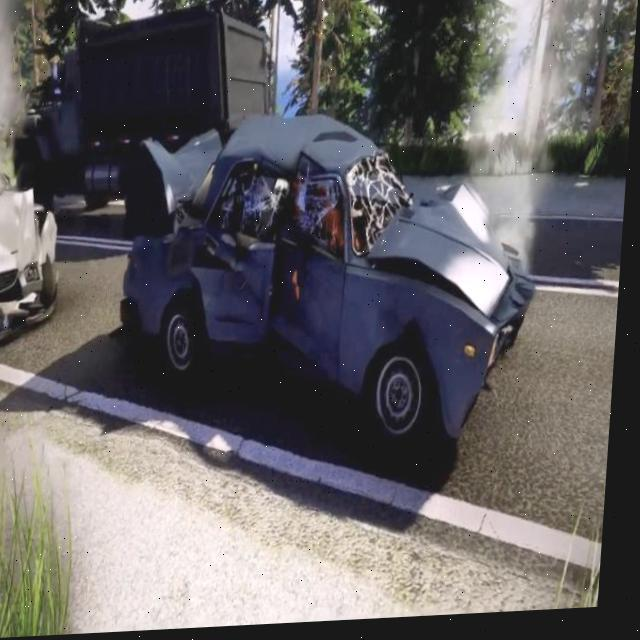multiple_accident: (0, 106, 552, 463)
